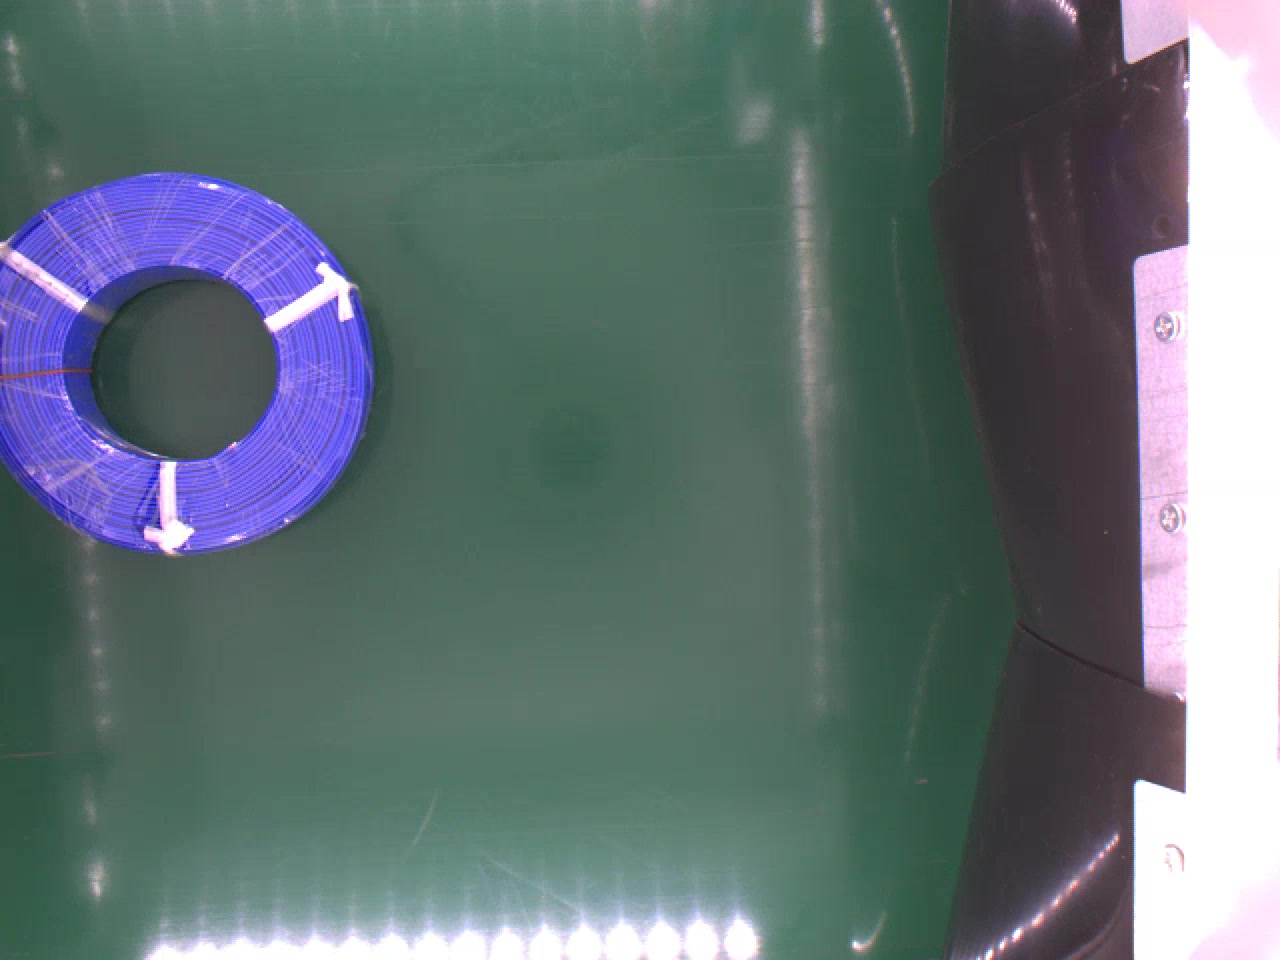blue: (0, 172, 379, 553)
